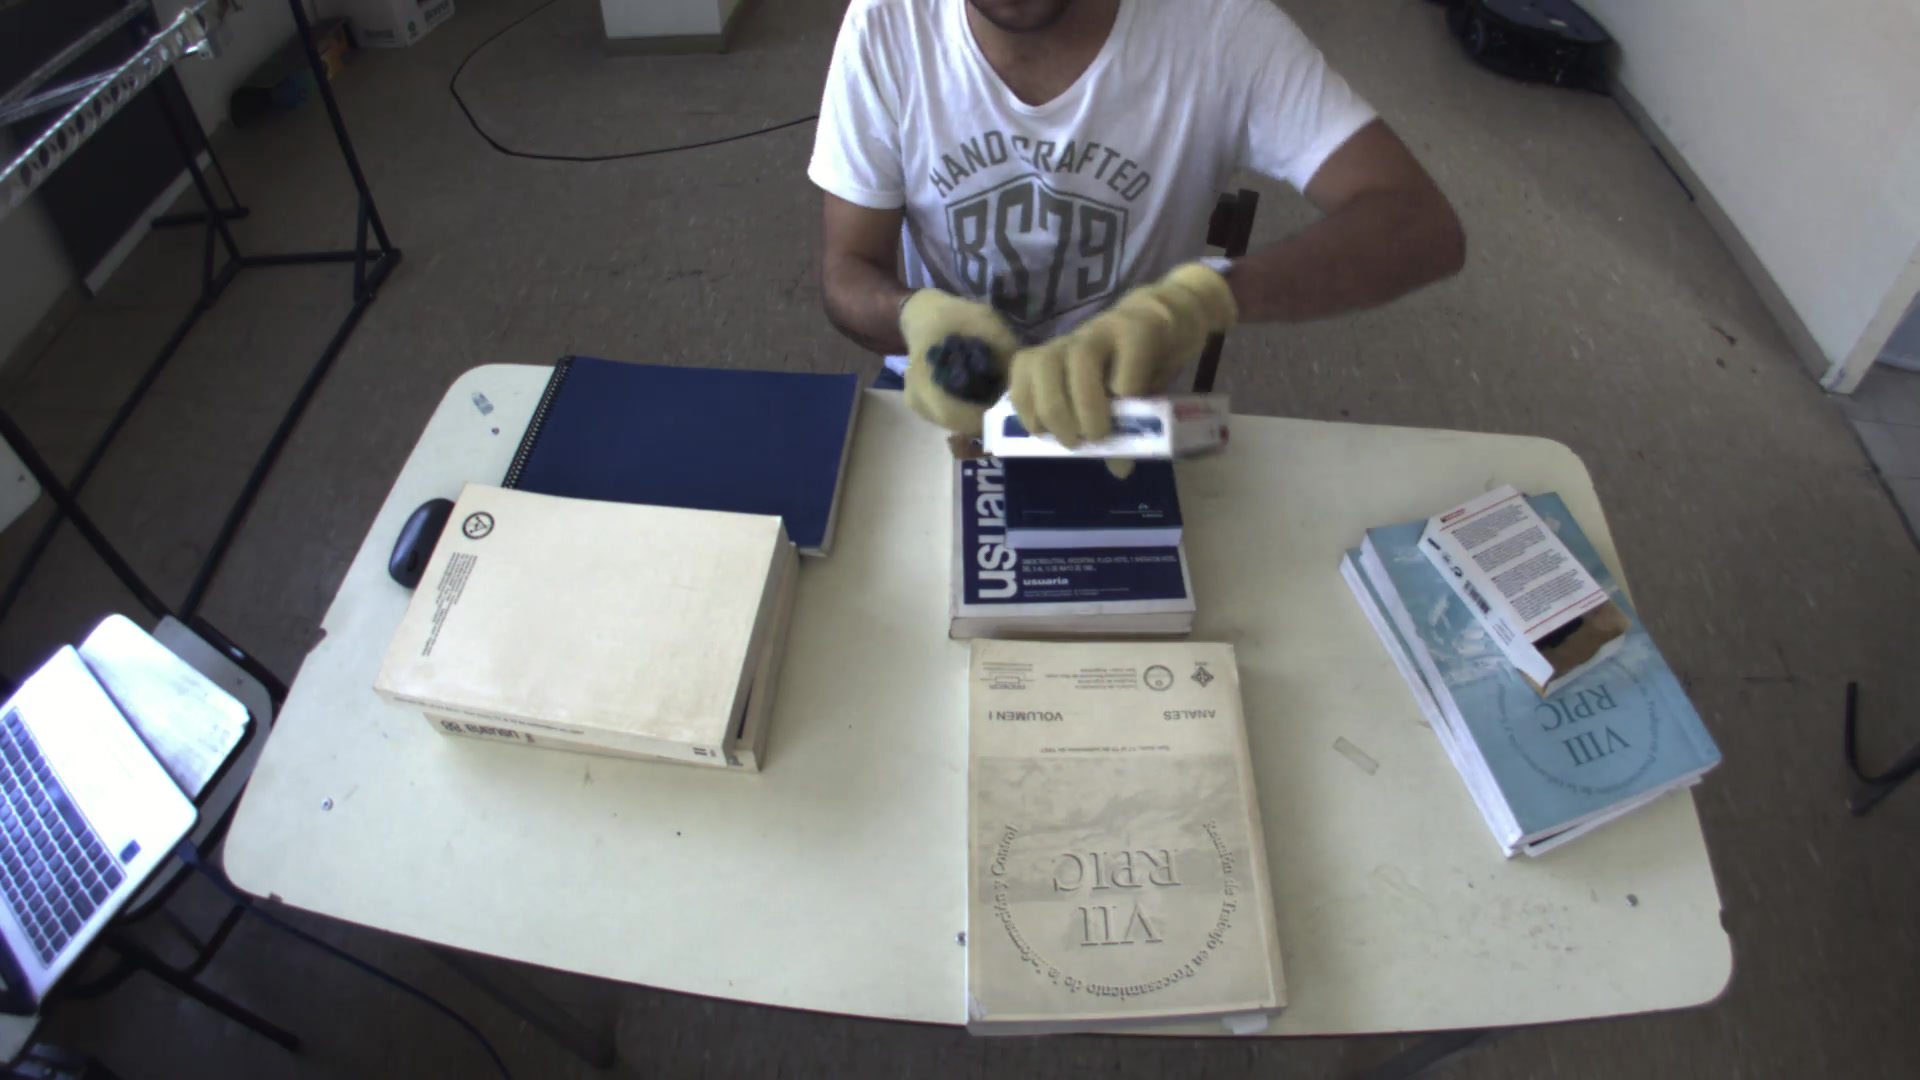hand: (996, 253, 1251, 448), (891, 273, 1026, 434)
